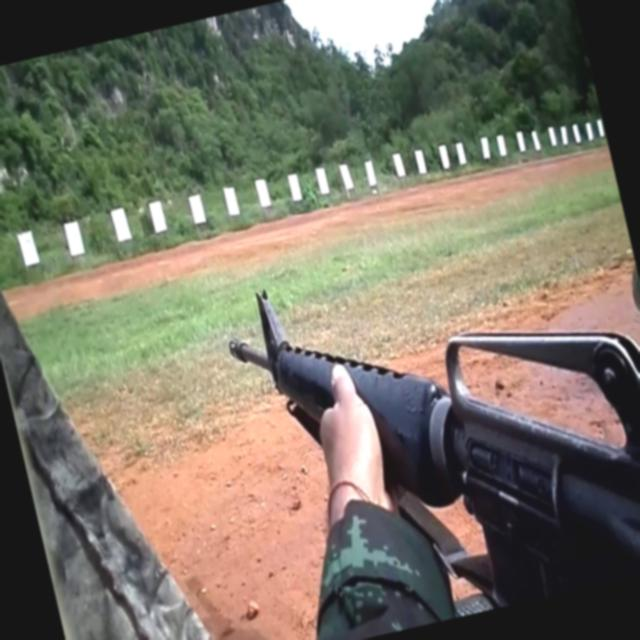m16: (206, 193, 640, 640)
